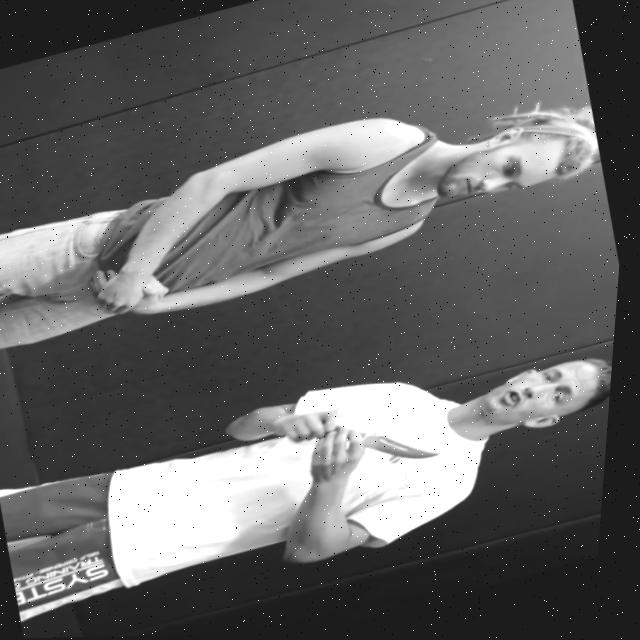knife: (363, 415, 451, 477)
